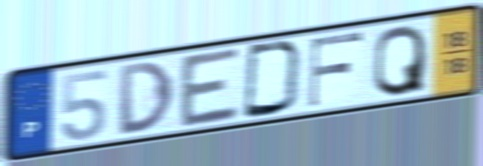5: (59, 66, 108, 142)
D: (241, 39, 306, 121), (117, 58, 177, 138)
E: (178, 44, 243, 131)
F: (306, 29, 366, 111)
Q: (371, 22, 428, 99)
